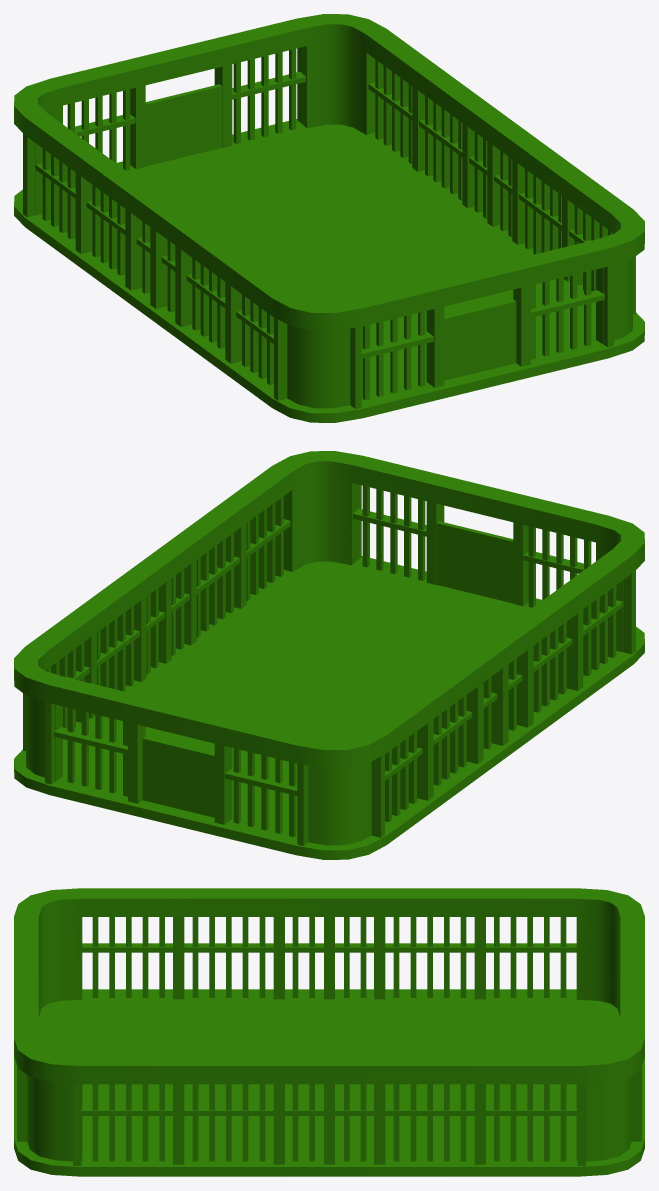
File: Plastic_crates.FBX
3 views of the same model, one above another, from view 1: azimuth 30°, elevation 25°; view 2: azimuth 150°, elevation 25°; view 3: azimuth 270°, elevation 25° (orthographic).
Parts seen in each view (by area): view 1: plastic_crate_LOD00; view 2: plastic_crate_LOD00; view 3: plastic_crate_LOD00.
Boxes of the visible parts, <box> form: plastic_crate_LOD00: <box>14,14,644,422</box>; plastic_crate_LOD00: <box>14,451,644,859</box>; plastic_crate_LOD00: <box>14,888,644,1176</box>.
Size of what is drawn, in the model's own units: 0.6361 by 0.1845 by 0.9542.
